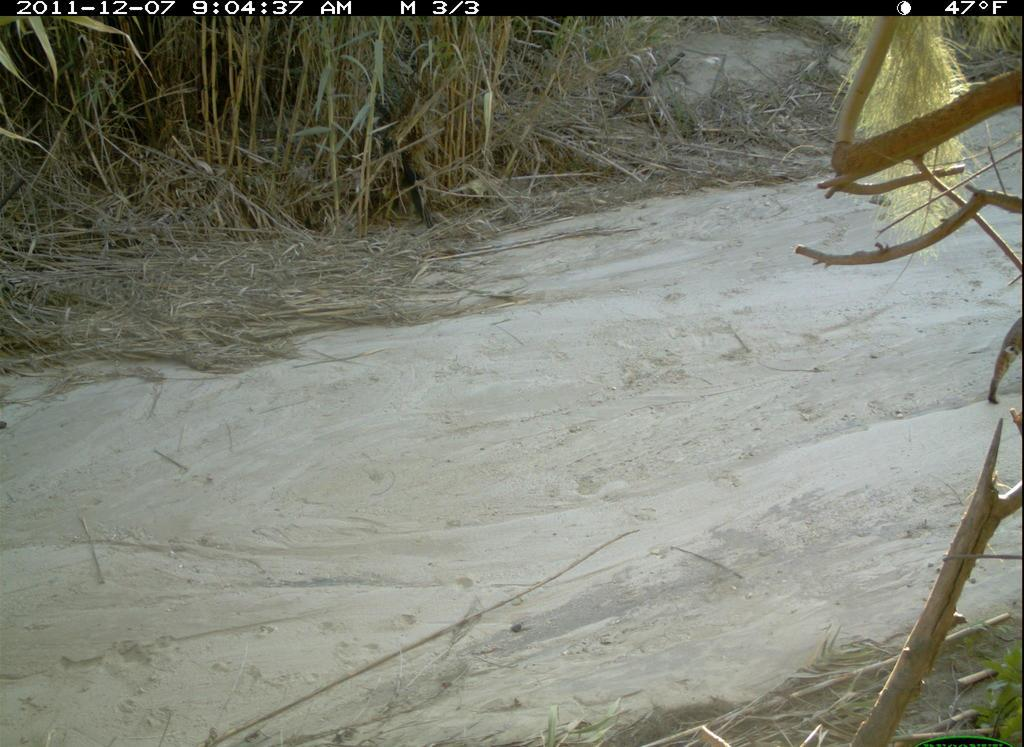bobcat: (984, 304, 1023, 405)
